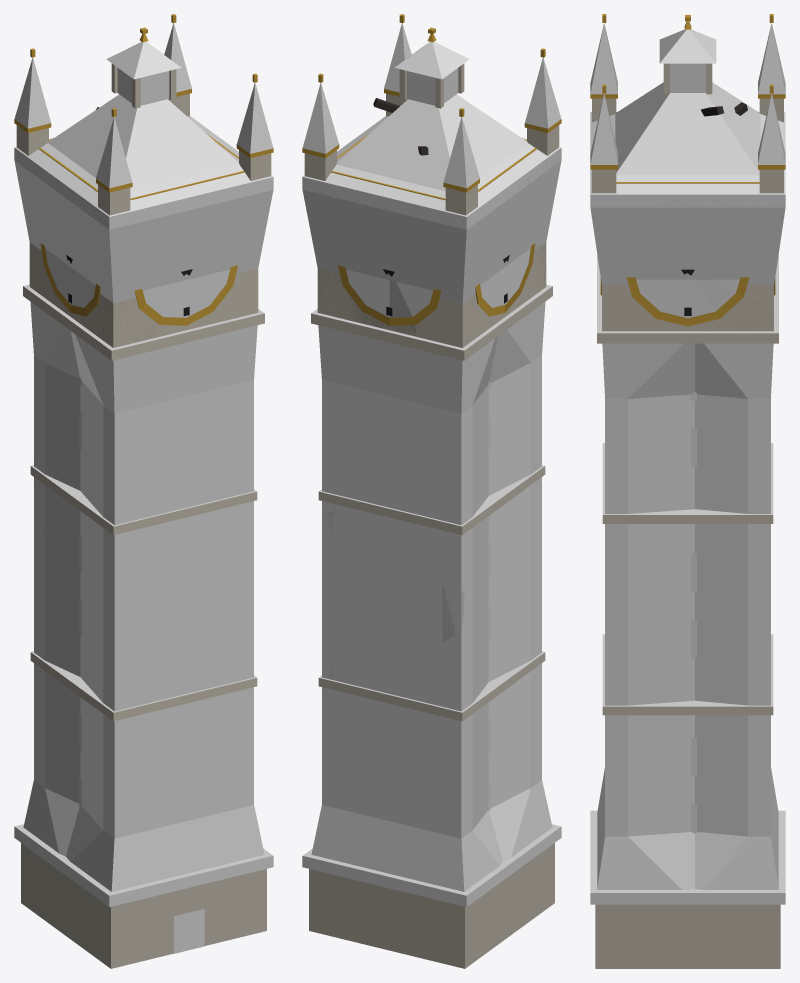
The model's file is lm_founders_clock.glb.
3 renders of one model, left to right at view 1: azimuth 30°, elevation 25°; view 2: azimuth 150°, elevation 25°; view 3: azimuth 270°, elevation 25°, orthographic. The views are drawn at different scales.
Visible parts, largest first — view 1: intact, damaged, chunk_12, chunk_08, chunk_00, chunk_04, chunk_02, chunk_06, chunk_10, chunk_01, chunk_13, chunk_07 (+4 smaller); view 2: intact, damaged, chunk_13, chunk_09, chunk_01, chunk_05, chunk_07, chunk_03, chunk_11, chunk_00, chunk_12, chunk_06 (+4 smaller); view 3: intact, damaged, chunk_00, chunk_01, chunk_12, chunk_08, chunk_04, chunk_13, chunk_06, chunk_02, chunk_09, chunk_05 (+4 smaller).
Boxes of the visible parts, bbox=[...] form: intact: bbox=[14, 14, 273, 965]; damaged: bbox=[14, 107, 273, 968]; chunk_12: bbox=[58, 138, 273, 302]; chunk_08: bbox=[80, 379, 253, 525]; chunk_00: bbox=[62, 805, 266, 968]; chunk_04: bbox=[80, 600, 253, 745]; chunk_02: bbox=[80, 712, 253, 838]; chunk_06: bbox=[80, 501, 253, 629]; chunk_10: bbox=[68, 269, 258, 413]; chunk_01: bbox=[21, 780, 79, 932]; chunk_13: bbox=[14, 116, 221, 263]; chunk_07: bbox=[34, 477, 80, 599]; intact: bbox=[302, 14, 561, 964]; damaged: bbox=[302, 98, 561, 968]; chunk_13: bbox=[302, 143, 510, 302]; chunk_09: bbox=[322, 379, 488, 525]; chunk_01: bbox=[309, 805, 506, 968]; chunk_05: bbox=[322, 600, 488, 745]; chunk_07: bbox=[322, 501, 488, 633]; chunk_03: bbox=[322, 712, 488, 838]; chunk_11: bbox=[317, 268, 500, 413]; chunk_00: bbox=[489, 780, 554, 937]; chunk_12: bbox=[347, 116, 561, 269]; chunk_06: bbox=[488, 477, 541, 603]; intact: bbox=[590, 14, 785, 968]; damaged: bbox=[590, 102, 785, 968]; chunk_00: bbox=[595, 768, 694, 968]; chunk_01: bbox=[695, 768, 780, 968]; chunk_12: bbox=[590, 112, 694, 284]; chunk_08: bbox=[605, 394, 694, 513]; chunk_04: bbox=[605, 622, 694, 740]; chunk_13: bbox=[695, 112, 785, 284]; chunk_06: bbox=[605, 524, 694, 626]; chunk_02: bbox=[605, 736, 694, 836]; chunk_09: bbox=[695, 394, 770, 513]; chunk_05: bbox=[695, 622, 770, 740].
Bounding box in the file's own units: 12 × 62 × 12.
